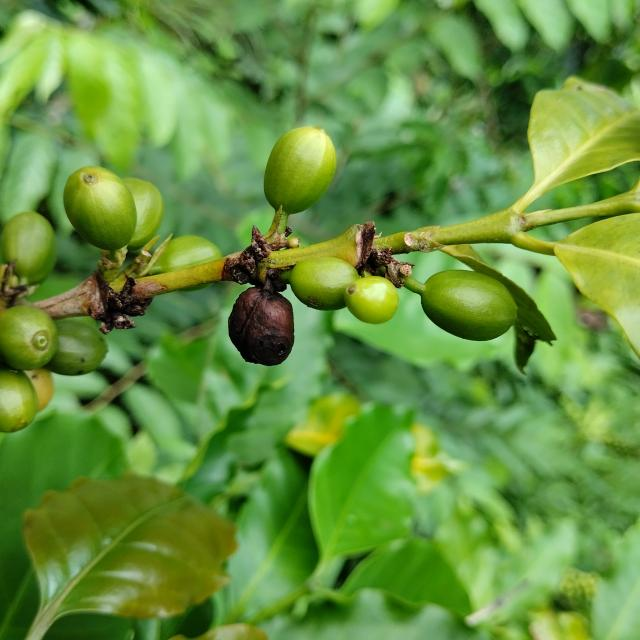green: (421, 270, 517, 341), (264, 126, 337, 214), (63, 166, 136, 251), (1, 211, 56, 285), (0, 306, 57, 371), (44, 318, 107, 376), (290, 258, 360, 310), (122, 178, 164, 250), (149, 235, 222, 275), (344, 276, 399, 324), (180, 284, 210, 292)
red: (228, 280, 294, 366)
